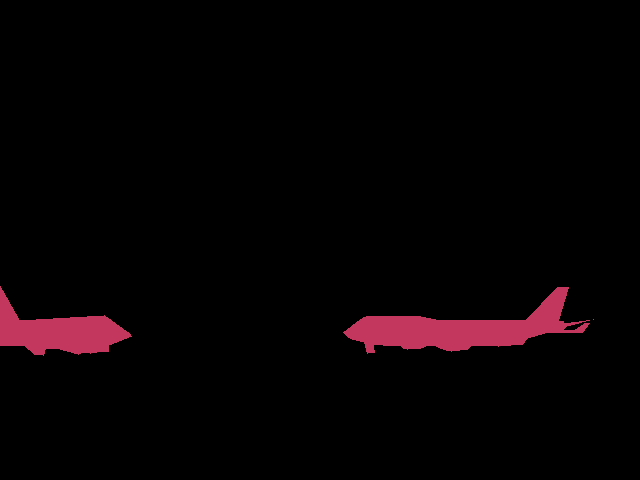Airplane: (343, 287, 593, 353), (0, 286, 131, 356)
